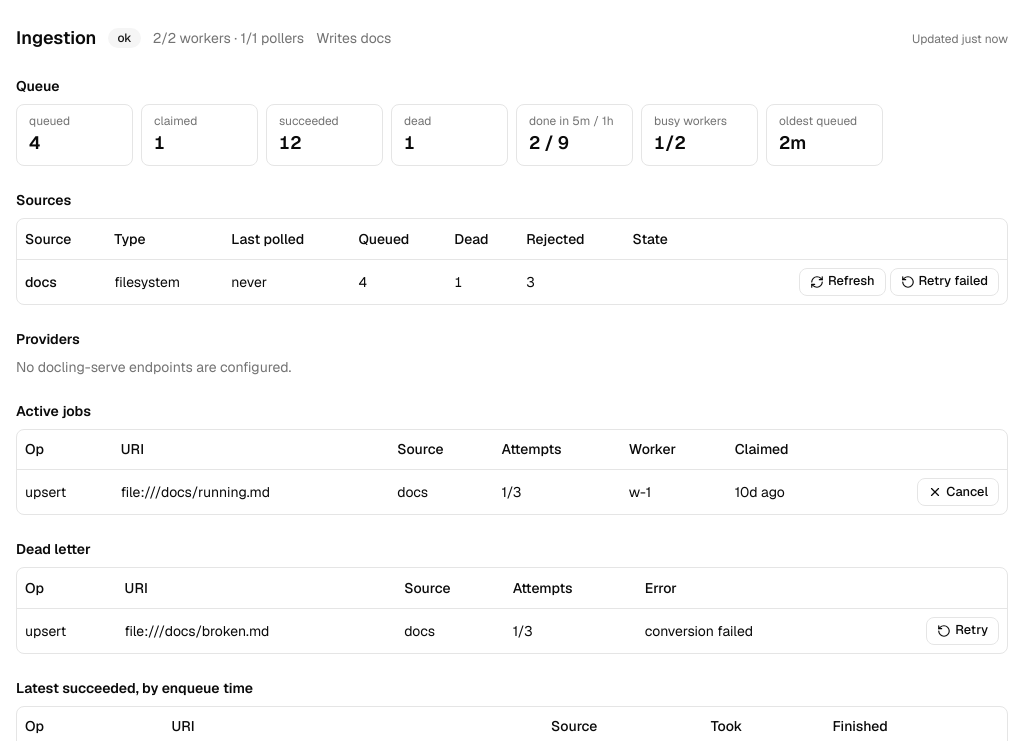
Test case: IngestionPage › says when a source's retried jobs wait on its worker breaker
expect the text "filesystem" is shown: met, box left=106, top=259, right=223, bottom=304
Click the button "Retry failed": x=944, y=282 left=890, top=268, right=999, bottom=296
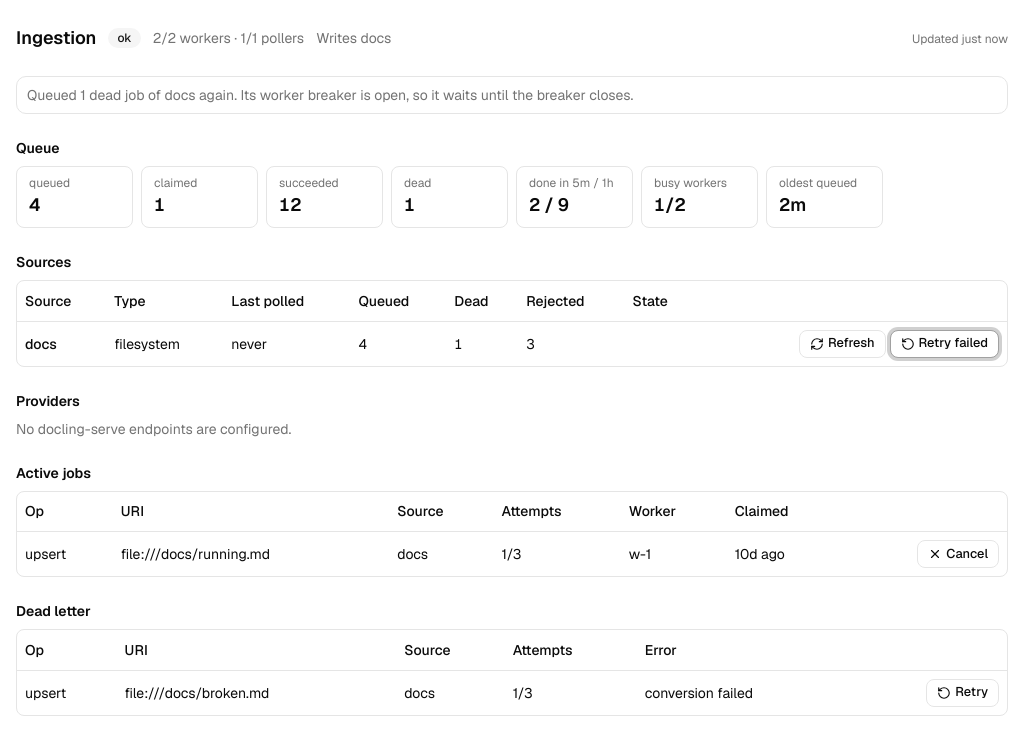
expect the text "Queued 1 dead job of docs again. Its worker breaker is open, so it waits until the breaker closes." is shown: met, box left=27, top=86, right=633, bottom=104
